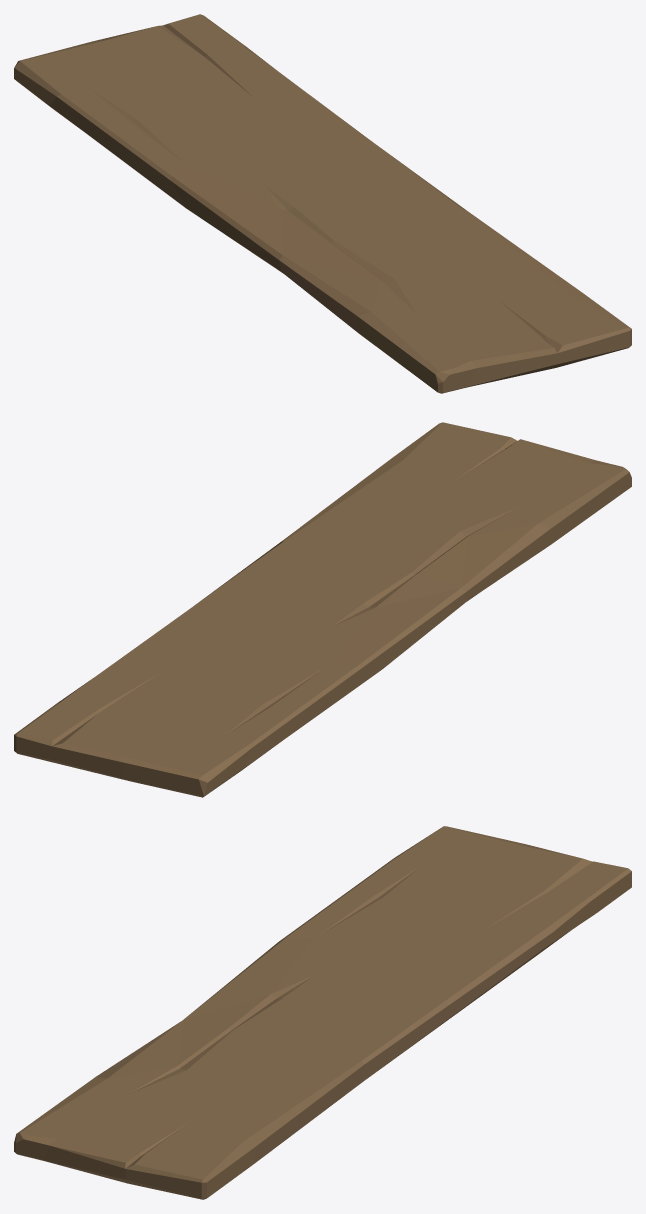
Rendered from SM_Prop_Wooden_Table_Top_01.fbx.
The picture shows the model from 3 angles, top to bottom: view 1: azimuth 30°, elevation 25°; view 2: azimuth 150°, elevation 25°; view 3: azimuth 330°, elevation 25°; orthographic projection.
Visible parts, largest first — view 1: SM_Prop_Wooden_Table_Top_01; view 2: SM_Prop_Wooden_Table_Top_01; view 3: SM_Prop_Wooden_Table_Top_01.
Boxes of the visible parts, x1,y1,x2,y2 form: SM_Prop_Wooden_Table_Top_01: [14, 14, 631, 393]; SM_Prop_Wooden_Table_Top_01: [14, 422, 631, 797]; SM_Prop_Wooden_Table_Top_01: [14, 826, 631, 1199].
Size of the model in its own units: 80.03 by 8.04 by 309.
